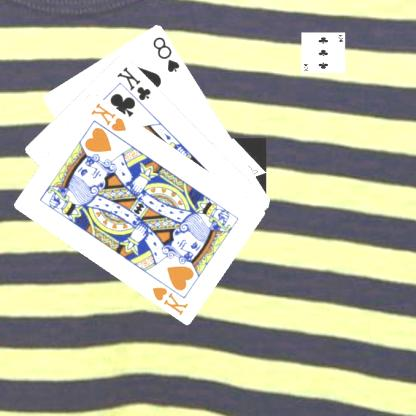8S: (152, 33, 184, 74)
KC: (115, 63, 154, 110)
KH: (150, 283, 192, 316), (90, 100, 130, 133)
